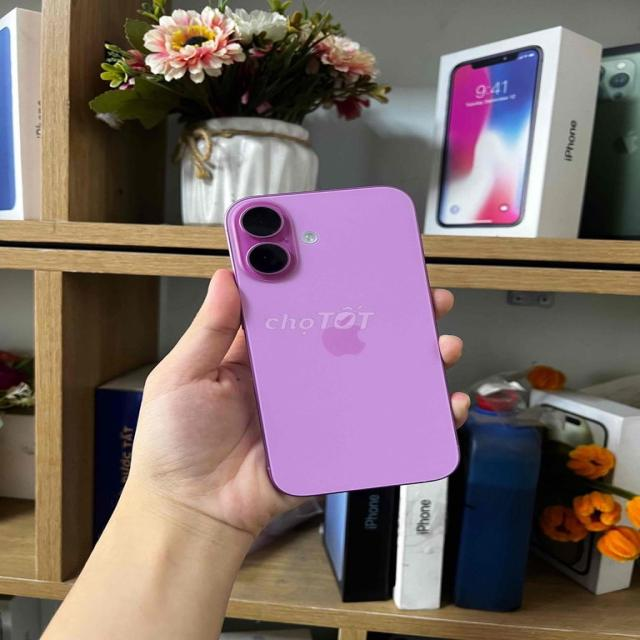gen_16: (218, 179, 468, 499)
